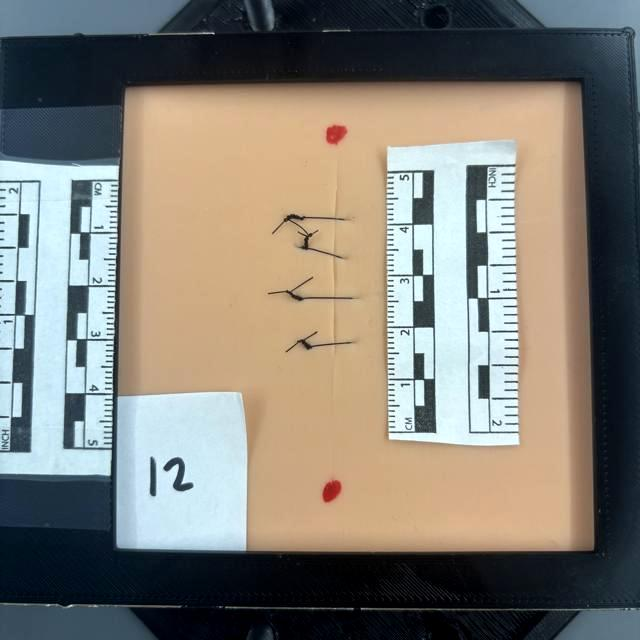incision_line: (334, 137, 336, 487)
scale_marker: (389, 327, 413, 380)
suture_d: (338, 257, 346, 298), (338, 218, 343, 258), (348, 298, 351, 343)
suture_l: (308, 245, 333, 259), (302, 295, 334, 301), (304, 217, 334, 222), (311, 343, 335, 347)
suture_r: (336, 294, 354, 300), (335, 340, 352, 346), (333, 252, 343, 261), (334, 218, 344, 222)
